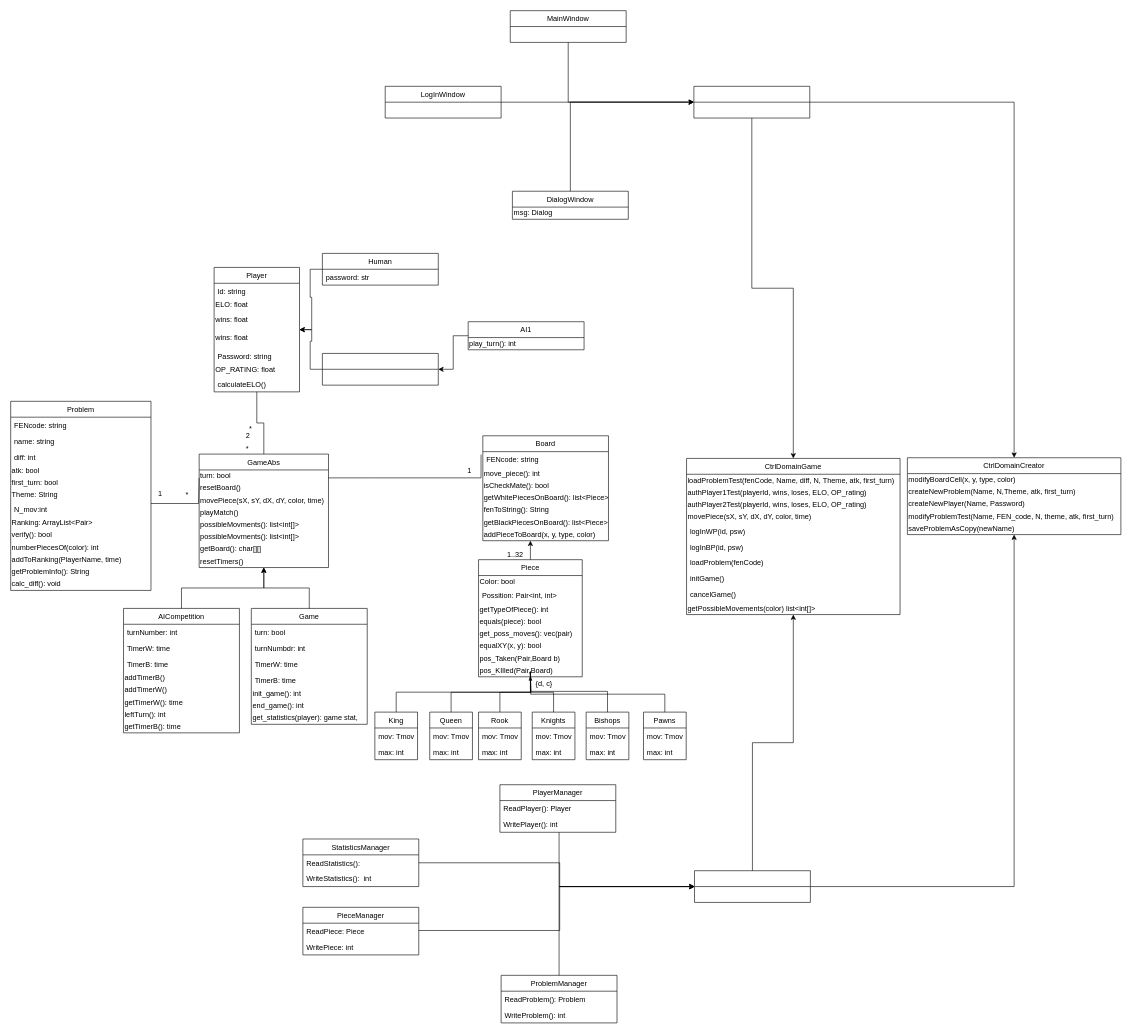
Some shapes in this 1132 by 1035 pixel diagram are drawn without their labels. The shapes that lost their labels are listed below. From the top down, each one's centre as x and y in pixels, then its label:
At (751,102): "PresentationCtrl".
At (380,369): "AI".
At (752,886): "DomainCtrl".
